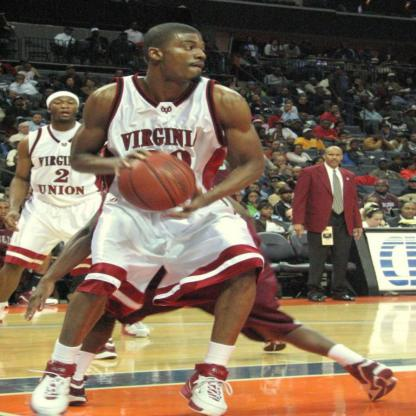Ball: (116, 149, 196, 212)
